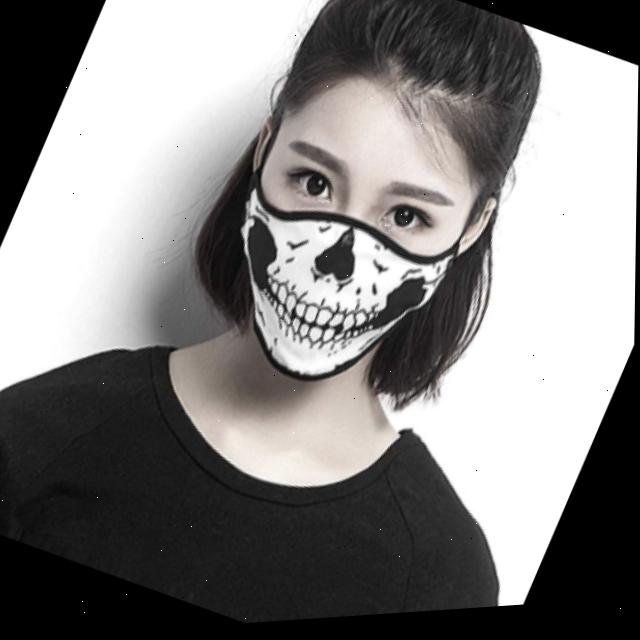Mask: (165, 98, 510, 439)
